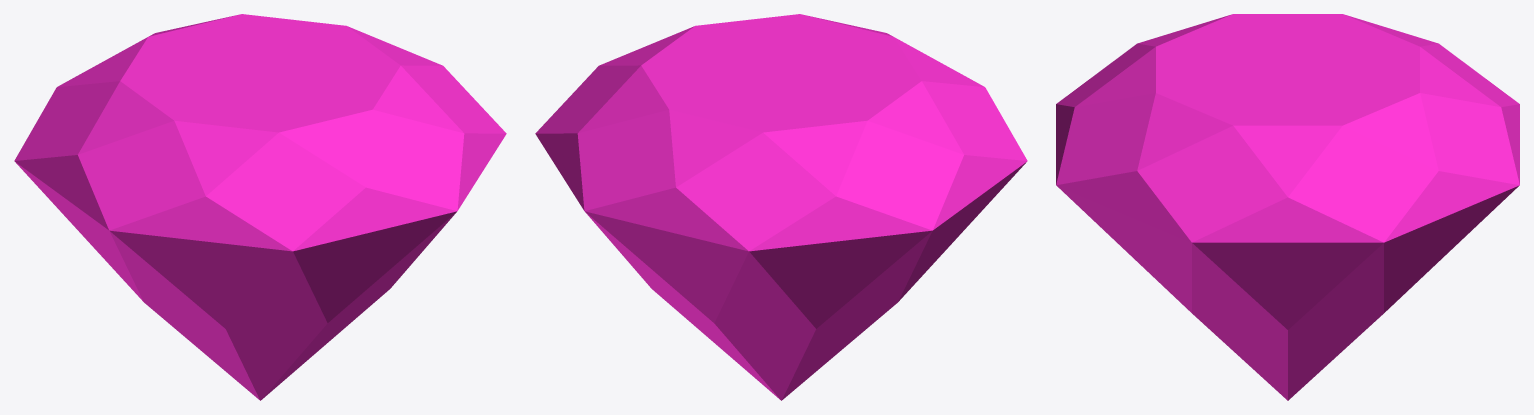
Rendered from diamond.fbx.
3 views of the same model, side by side, from view 1: azimuth 30°, elevation 25°; view 2: azimuth 150°, elevation 25°; view 3: azimuth 270°, elevation 25° (orthographic).
Visible parts, largest first — view 1: Gem.001; view 2: Gem.001; view 3: Gem.001.
Boxes of the visible parts, bbox=[...] form: Gem.001: bbox=[14, 14, 506, 400]; Gem.001: bbox=[535, 14, 1027, 400]; Gem.001: bbox=[1056, 14, 1519, 400].
Size of the model in its own units: 146 by 115 by 146.
